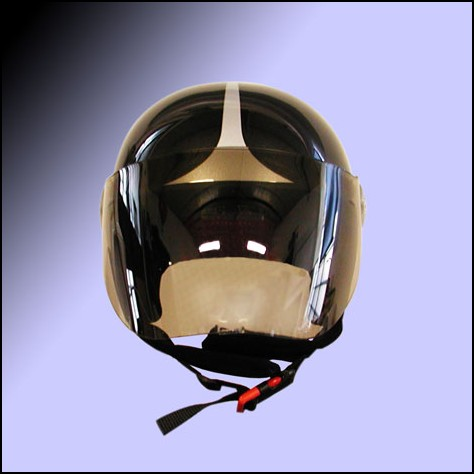helmet: (101, 97, 361, 354)
